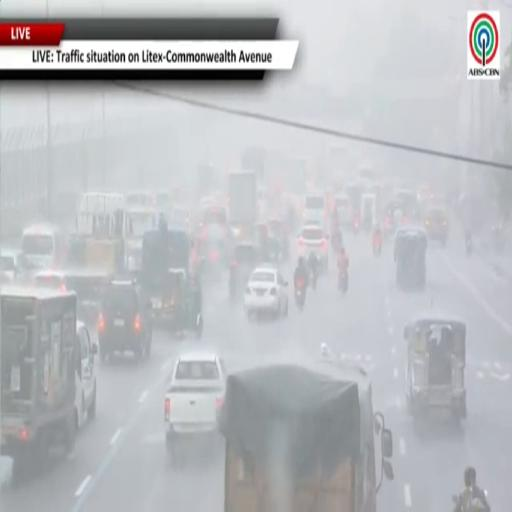car: (164, 351, 227, 462), (98, 278, 152, 362), (75, 322, 98, 428), (244, 265, 288, 316), (298, 223, 329, 270), (0, 249, 34, 281), (425, 207, 448, 246), (303, 191, 327, 222), (334, 194, 353, 228)
motorcycle: (308, 253, 319, 290), (229, 263, 238, 299), (462, 499, 487, 511), (295, 280, 305, 310), (332, 230, 342, 253), (338, 271, 348, 294), (465, 235, 473, 256), (373, 239, 381, 257), (353, 217, 360, 234)
truck: (218, 361, 393, 511), (0, 286, 81, 478), (228, 170, 258, 232)
